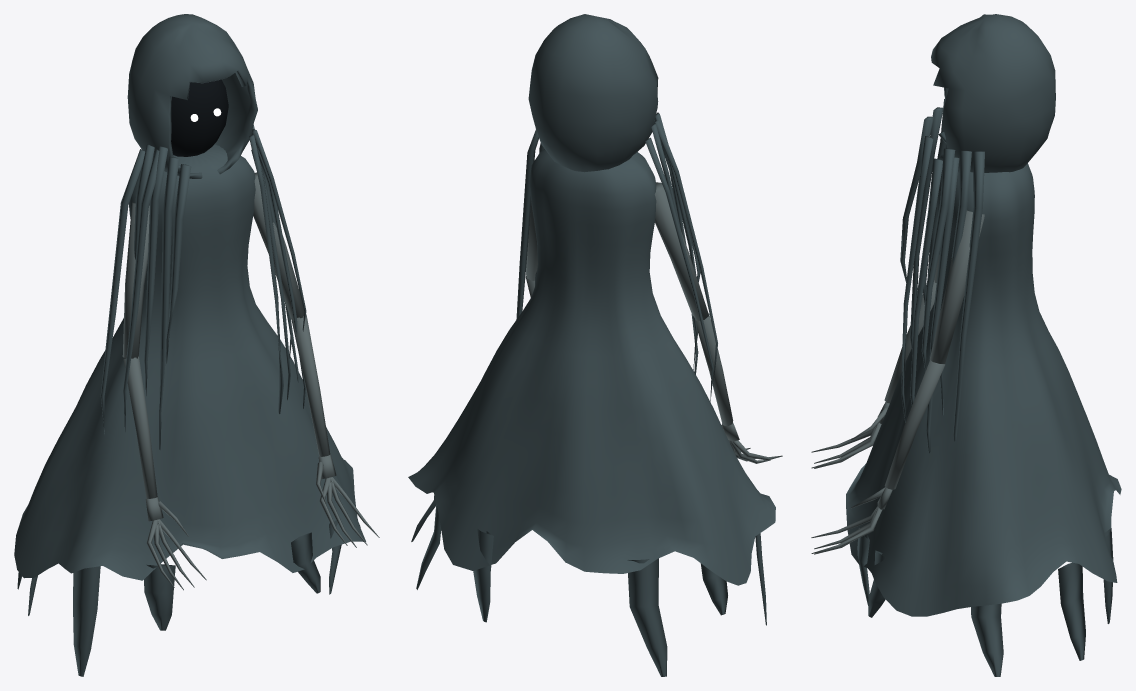
Rendered from wraith-04534956.glb.
The picture shows the model from 3 angles, left to right: view 1: azimuth 30°, elevation 25°; view 2: azimuth 150°, elevation 25°; view 3: azimuth 270°, elevation 25°; orthographic projection.
Parts seen in each view (by area): view 1: Body, Head, Face, Tatter5, Veil1, ForearmR, Veil3, ForearmL, Veil5, UpperArmL, Veil0, UpperArmR (+8 smaller); view 2: Body, Head, Tatter3, UpperArmL, ForearmL, Veil8, Veil3, Veil5, Tatter2, Tatter4, UpperArmR, Veil0 (+2 smaller); view 3: Body, Head, UpperArmR, Veil8, ForearmR, Tatter1, Veil11, Veil10, Veil6, Tatter0, Veil9, Veil1 (+6 smaller).
Boxes of the visible parts, x1,y1,x2,y2 form: Body: (14, 144, 365, 580); Head: (127, 14, 257, 178); Face: (171, 79, 228, 156); Tatter5: (73, 566, 100, 676); Veil1: (159, 156, 179, 449); ForearmR: (291, 315, 330, 456); Veil3: (100, 149, 145, 435); ForearmL: (123, 356, 157, 498); Veil5: (123, 149, 159, 432); UpperArmL: (122, 202, 149, 358); Veil0: (144, 146, 167, 396); UpperArmR: (253, 172, 306, 319); Body: (408, 149, 775, 585); Head: (528, 14, 658, 172); Tatter3: (627, 558, 667, 676); UpperArmL: (654, 182, 708, 321); ForearmL: (695, 313, 733, 425); Veil8: (516, 130, 538, 319); Veil3: (645, 137, 713, 406); Veil5: (654, 120, 717, 386); Tatter2: (473, 528, 493, 622); Tatter4: (700, 563, 727, 615); UpperArmR: (526, 202, 537, 280); Veil0: (655, 112, 697, 345); Body: (846, 163, 1121, 616); Head: (931, 14, 1055, 172); UpperArmR: (929, 210, 984, 363); Veil8: (953, 151, 984, 441); ForearmR: (884, 360, 945, 489); Tatter1: (1058, 562, 1085, 660); Veil11: (921, 148, 955, 371); Veil10: (910, 158, 942, 405); Veil6: (926, 157, 959, 453); Tatter0: (971, 603, 1003, 676); Veil9: (901, 136, 933, 422); Veil1: (910, 107, 943, 347).
Bounding box in the file's own units: 1.32 × 2.25 × 1.04.
